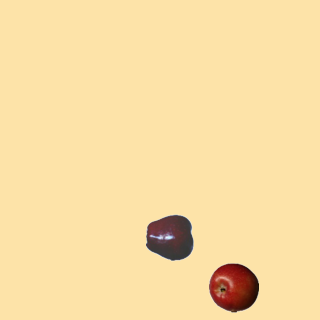Apple Braeburn: (208, 262, 258, 312)
Apple Red Delicious: (145, 212, 195, 262)
